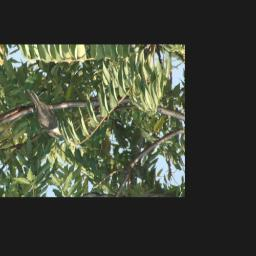Cuckoo: (24, 88, 64, 138)
